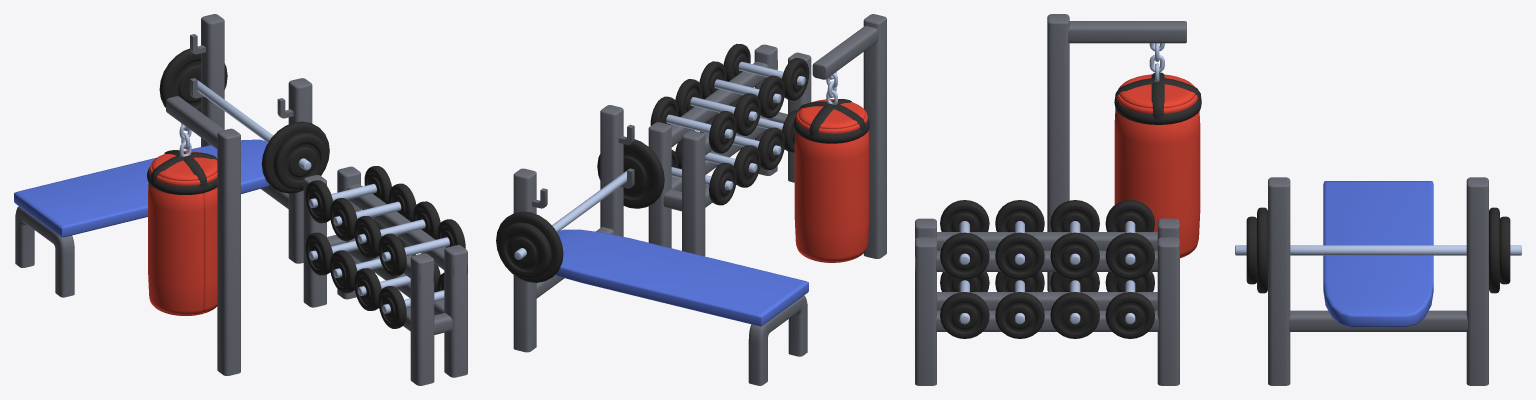
Rendered from GYM.fbx.
3 renders of one model, left to right at view 1: azimuth 30°, elevation 25°; view 2: azimuth 150°, elevation 25°; view 3: azimuth 270°, elevation 25°, orthographic. The views are drawn at different scales.
Visible parts, largest first — view 1: Cube.002, Cube, Cube.001, Circle, Circle.005, Circle.007, Circle.001, Circle.003, Circle.004, Circle.002, Circle.006, Circle.008; view 2: Cube, Cube.002, Cube.001, Circle, Circle.005, Circle.003, Circle.001, Circle.007, Circle.006, Circle.008, Circle.004, Circle.002; view 3: Cube, Cube.002, Cube.001, Circle, Circle.003, Circle.001, Circle.007, Circle.005, Circle.004, Circle.008, Circle.002, Circle.006.
Boxes of the visible parts, x1,y1,x2,y2 form: Cube.002: (147,96,240,375); Cube: (14,14,312,297); Cube.001: (303,166,467,385); Circle: (159,48,329,193); Circle.005: (330,183,416,240); Circle.007: (305,166,391,223); Circle.001: (378,219,465,276); Circle.003: (354,201,440,258); Circle.004: (354,263,440,310); Circle.002: (378,273,444,328); Circle.006: (330,236,415,293); Circle.008: (305,219,385,275); Cube: (513,105,808,385); Cube.002: (793,14,886,262); Cube.001: (648,44,811,256); Circle: (496,139,664,282); Circle.005: (675,79,760,135); Circle.003: (699,61,784,118); Circle.001: (723,44,809,100); Circle.007: (650,96,736,153); Circle.006: (675,140,760,187); Circle.008: (671,150,736,205); Circle.004: (700,114,784,169); Circle.002: (729,96,797,152); Cube: (1268,177,1488,385); Cube.002: (1047,14,1201,291); Cube.001: (915,218,1179,385); Circle: (1235,207,1521,293); Circle.003: (995,200,1044,279); Circle.001: (940,200,989,279); Circle.007: (1105,200,1154,279); Circle.005: (1050,200,1099,279); Circle.004: (995,272,1044,338); Circle.008: (1105,272,1154,338); Circle.002: (940,272,989,338); Circle.006: (1050,272,1099,338).
Bounding box in the file's own units: 2.9 × 2.7 × 5.5.
